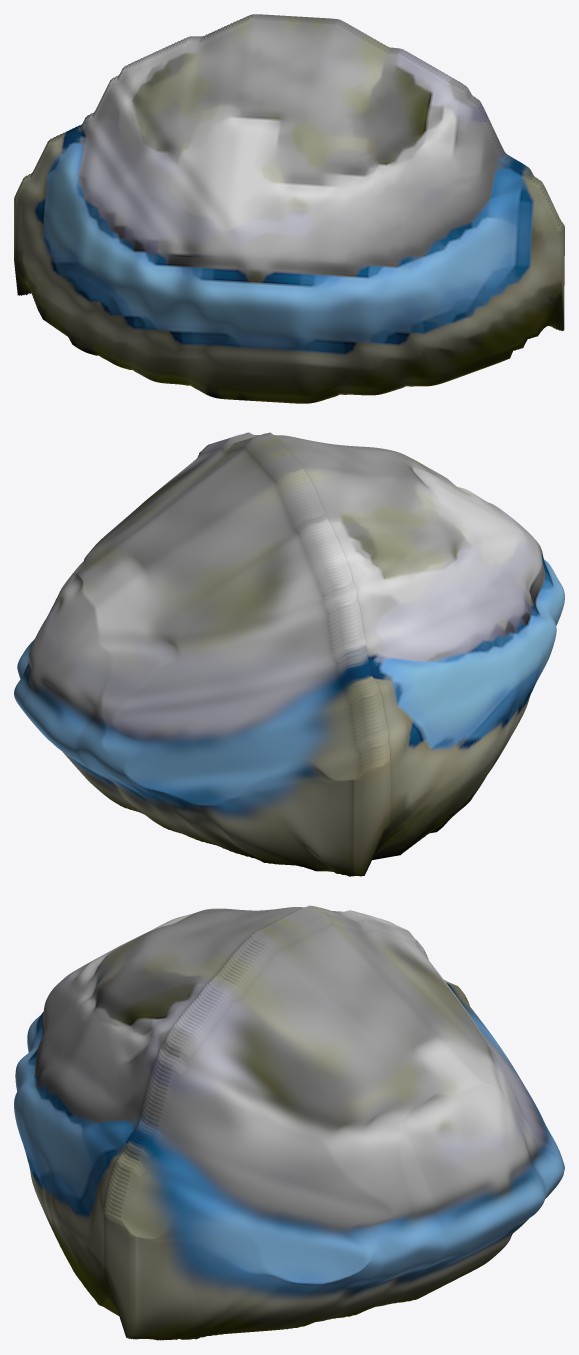
The model's file is allied_patriot_missile.glb.
3 views of the same model, one above another, from view 1: azimuth 30°, elevation 25°; view 2: azimuth 150°, elevation 25°; view 3: azimuth 270°, elevation 25° (orthographic). The views are drawn at different scales.
Parts seen in each view (by area): view 1: allied_patriot_missile; view 2: allied_patriot_missile; view 3: allied_patriot_missile.
Boxes of the visible parts, left/top/right/bottom form: allied_patriot_missile: left=14, top=14, right=564, bottom=403; allied_patriot_missile: left=14, top=432, right=564, bottom=876; allied_patriot_missile: left=14, top=905, right=564, bottom=1340.
Size of the model in its own units: 2.02 by 1.34 by 2.09.
